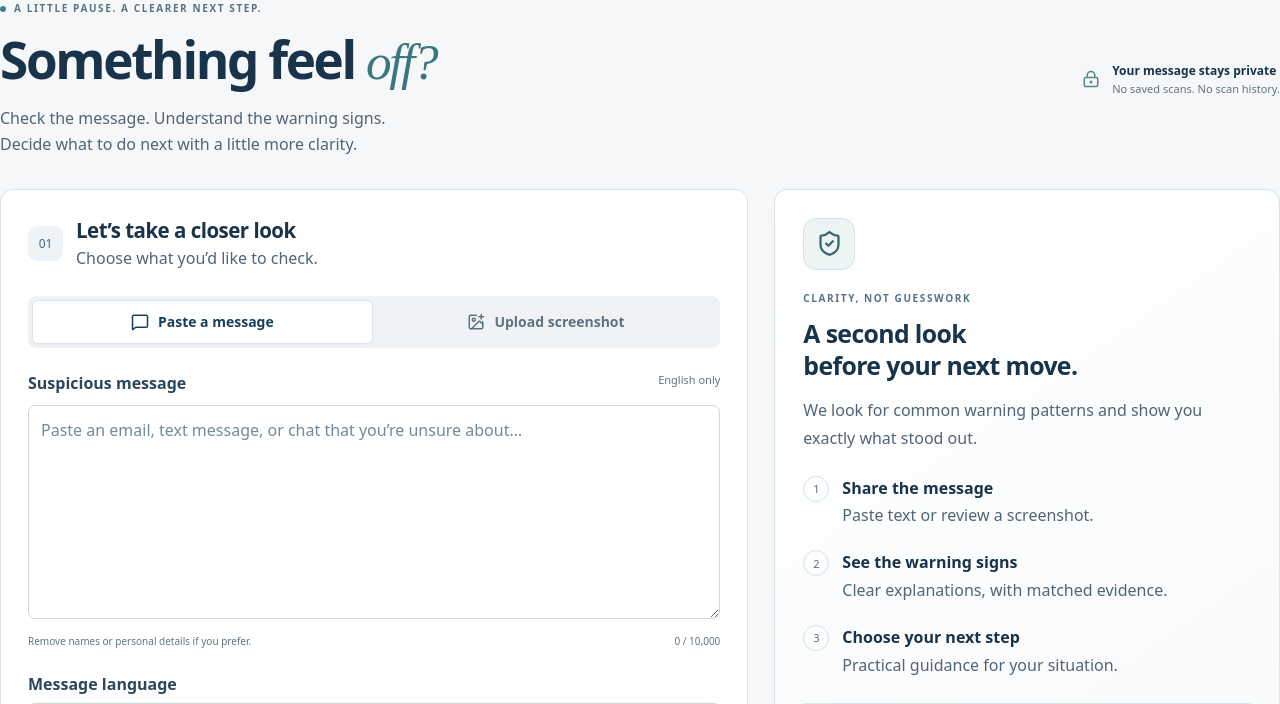
Test case: discards a response after clear
The image size is (1280, 704).
Replace the text in the text box labelled "Suspicious message" with "Urgent: send your OTP immediately." at (374, 512), box 28,405 -> 720,619
(page scrolled)
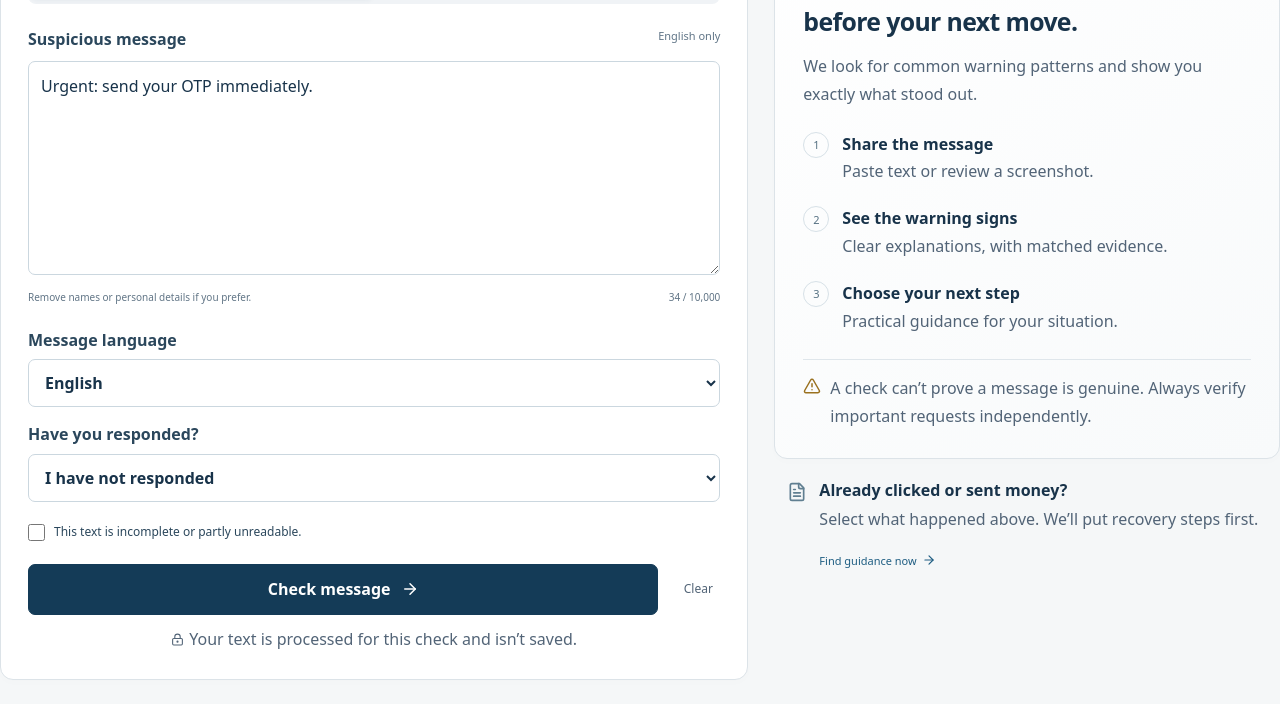
Click the button "Check message" at (343, 590), box 28,564 -> 658,615
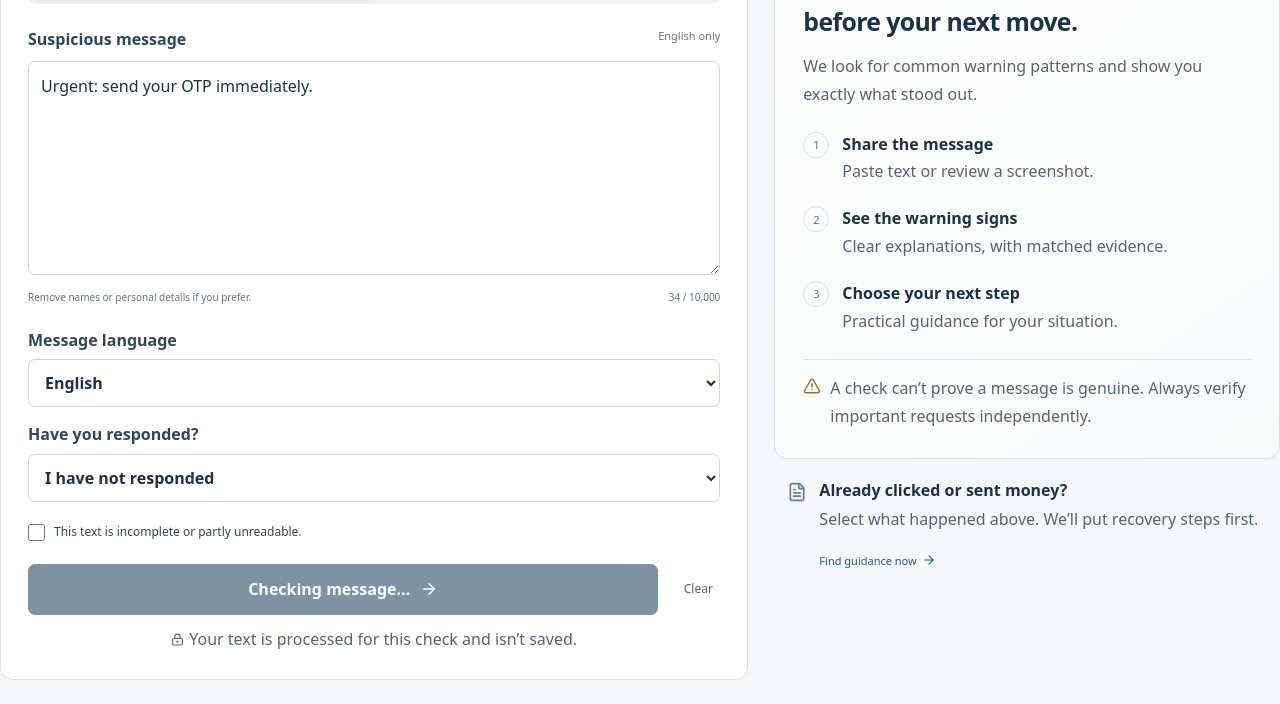
Click the button "Clear" at (698, 590), box 676,568 -> 720,612
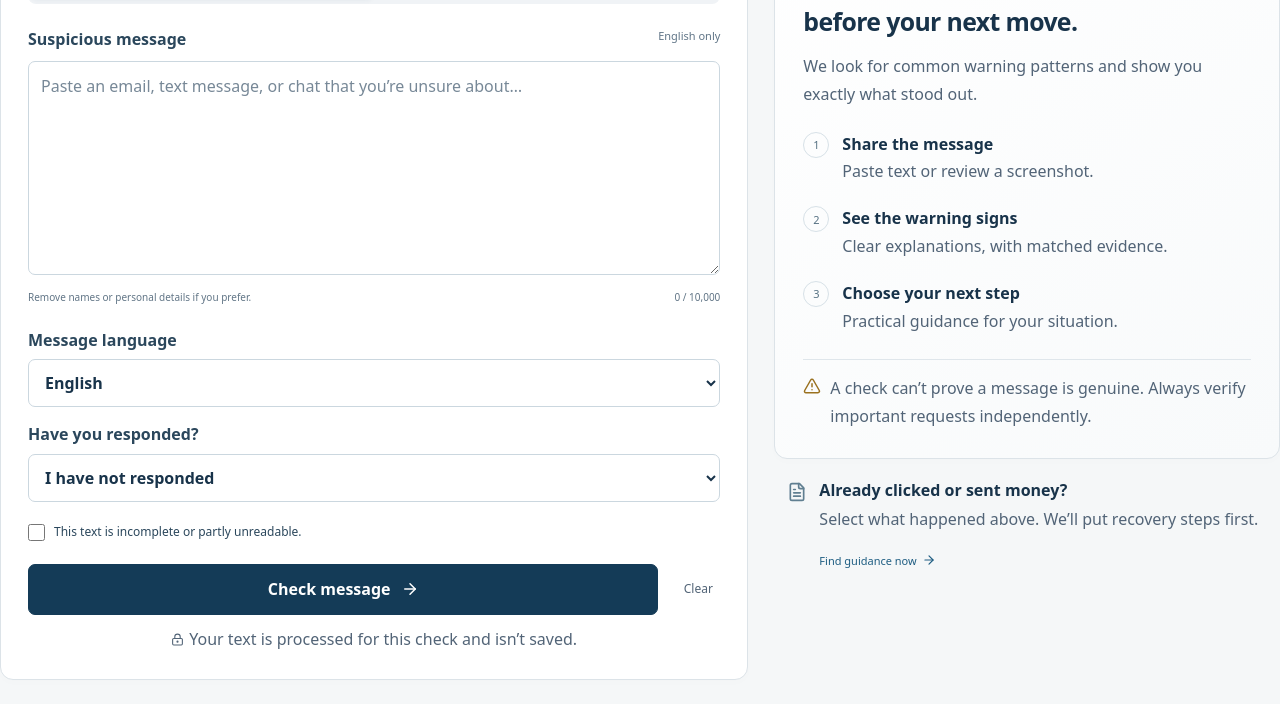
expect the button "Check message" is enabled: met, box 28,564 -> 658,615
expect the text box is empty: met, box 28,61 -> 720,275
